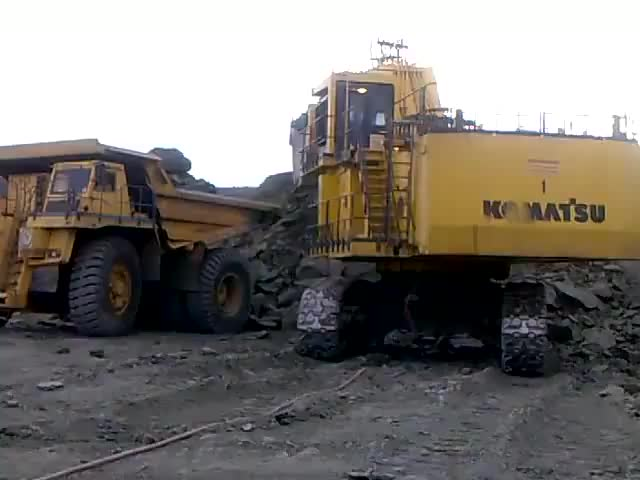body: (315, 63, 638, 261)
wheels: (295, 279, 547, 377)
